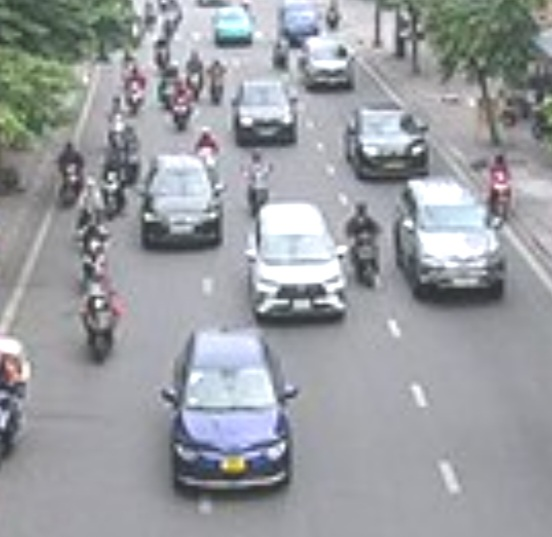car: (168, 329, 291, 495), (395, 179, 505, 297), (248, 201, 344, 321), (141, 155, 222, 253), (345, 101, 429, 178), (232, 80, 297, 146), (301, 40, 352, 89)
